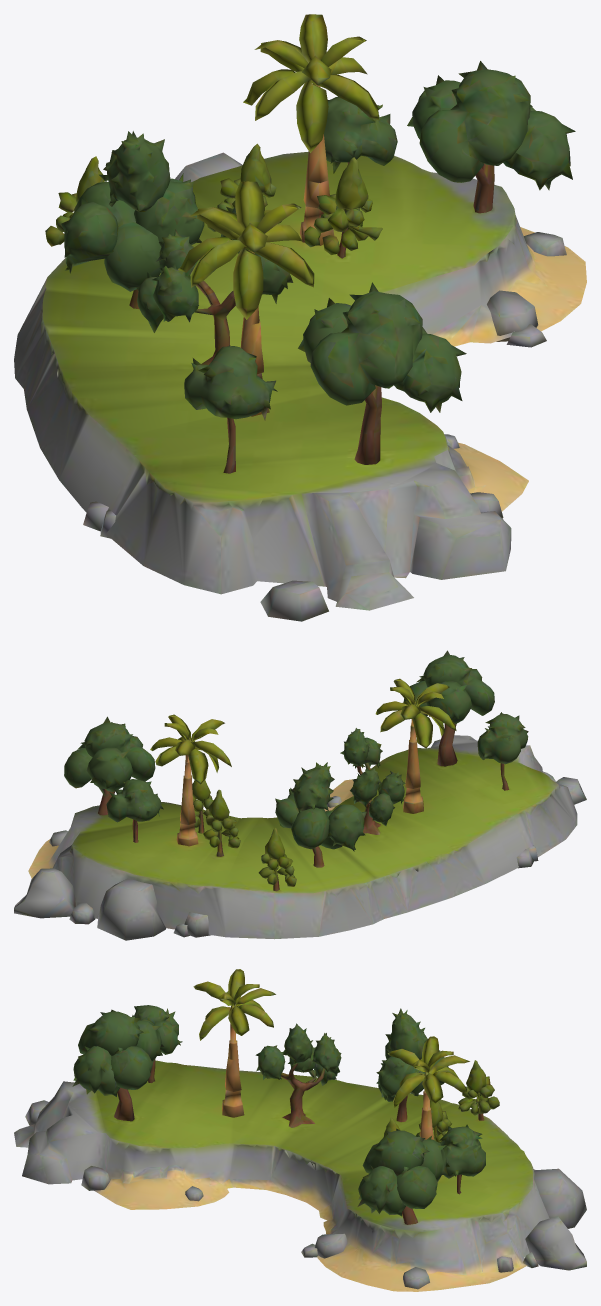
Rendered from isle_09.glb.
3 views of the same model, one above another, from view 1: azimuth 30°, elevation 25°; view 2: azimuth 150°, elevation 25°; view 3: azimuth 270°, elevation 25° (orthographic). The views are drawn at different scales.
Visible parts, largest first — view 1: tripo_node_984cc937-40e7-4d26-9fe8-0d1050cf6922; view 2: tripo_node_984cc937-40e7-4d26-9fe8-0d1050cf6922; view 3: tripo_node_984cc937-40e7-4d26-9fe8-0d1050cf6922.
Part boxes in pixels (<box>): tripo_node_984cc937-40e7-4d26-9fe8-0d1050cf6922: <box>14,14,586,621</box>; tripo_node_984cc937-40e7-4d26-9fe8-0d1050cf6922: <box>14,650,586,940</box>; tripo_node_984cc937-40e7-4d26-9fe8-0d1050cf6922: <box>14,969,586,1291</box>.
Bounding box in the file's own units: 28.4 × 11.51 × 34.8.
Materials: 1 (1 with a texture image).
